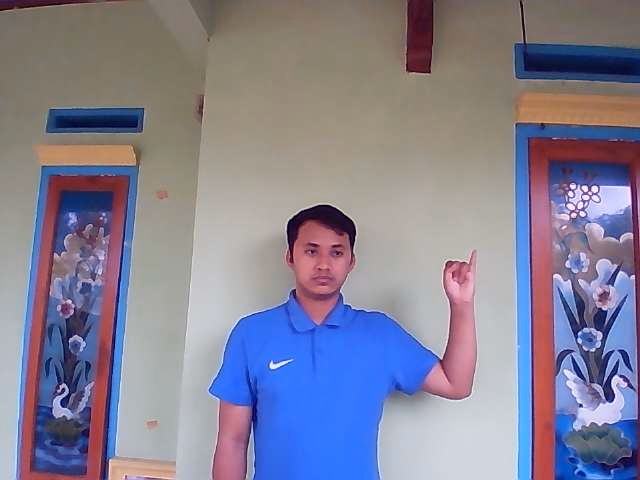I: (442, 249, 479, 305)
